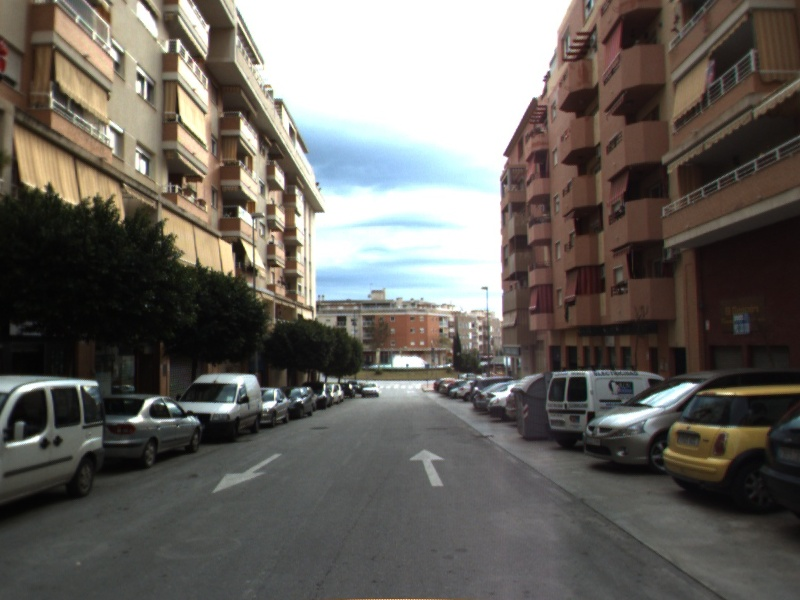STRAIGHT: (407, 447, 448, 488)
